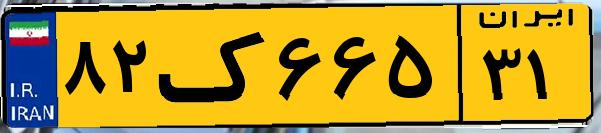1: (525, 38, 570, 115)
2: (110, 28, 158, 98)
3: (475, 38, 525, 113)
5: (385, 28, 445, 110)
6: (270, 28, 330, 110), (330, 28, 385, 110)
8: (57, 26, 110, 100)
ک: (158, 12, 270, 120)
